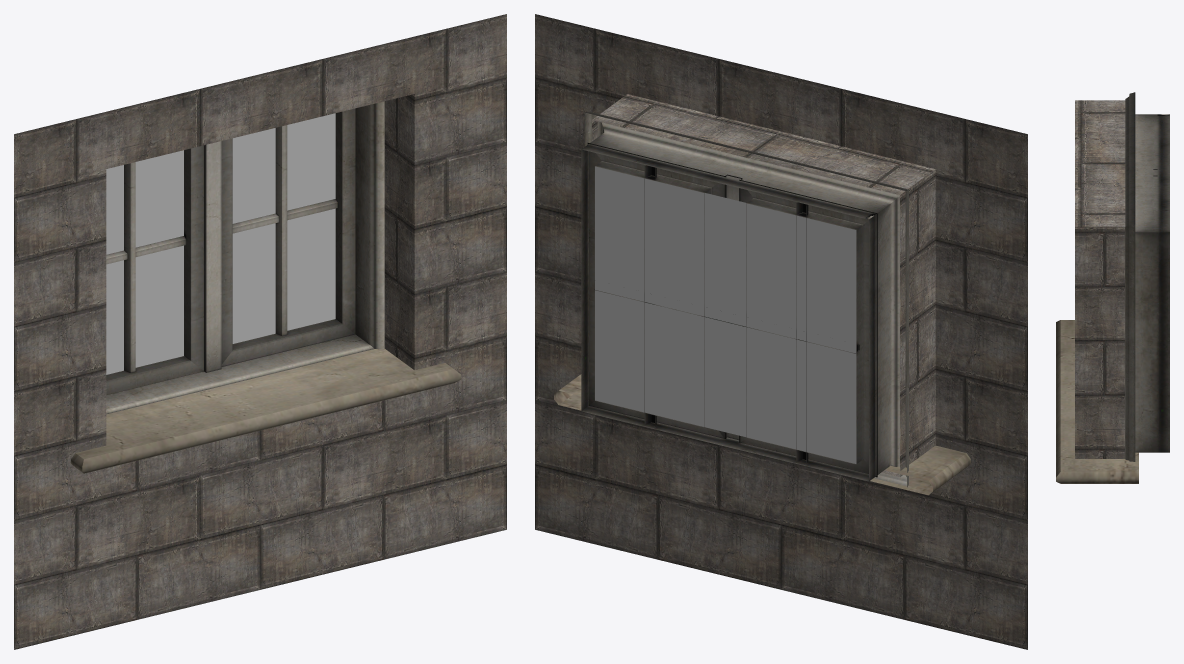
File: exterior_walls_bare_window_unlit.DAE
3 renders of one model, left to right at view 1: azimuth 30°, elevation 25°; view 2: azimuth 150°, elevation 25°; view 3: azimuth 270°, elevation 25°, orthographic. The views are drawn at different scales.
Visible parts, largest first — view 1: Box019, mansionbase_wall_window003, mansionbase_wall_windowglass002; view 2: Box019, mansionbase_wall_windowglass002, mansionbase_wall_window003; view 3: mansionbase_wall_window003, Box019.
Boxes of the visible parts, left/top/right/bottom form: Box019: left=14, top=14, right=506, bottom=649; mansionbase_wall_window003: left=71, top=101, right=461, bottom=473; mansionbase_wall_windowglass002: left=106, top=113, right=335, bottom=374; Box019: left=535, top=14, right=1027, bottom=649; mansionbase_wall_windowglass002: left=595, top=166, right=856, bottom=463; mansionbase_wall_window003: left=554, top=111, right=970, bottom=495; mansionbase_wall_window003: left=1056, top=92, right=1169, bottom=483; Box019: left=1075, top=100, right=1125, bottom=458.
Size of the model in its own units: 4 by 4 by 0.9507.
